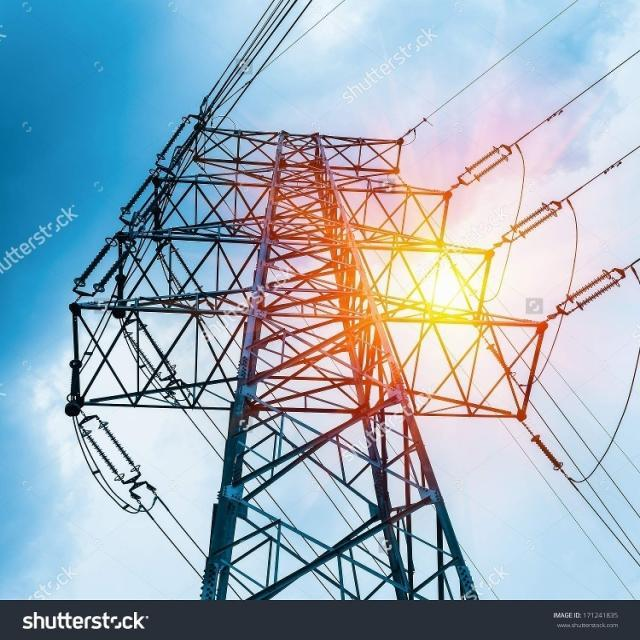non-critical vegetation: (182, 115, 556, 613)
